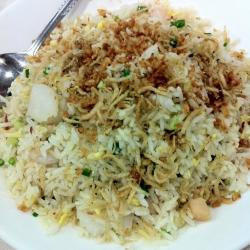rice: (54, 19, 227, 114), (26, 133, 215, 211)
